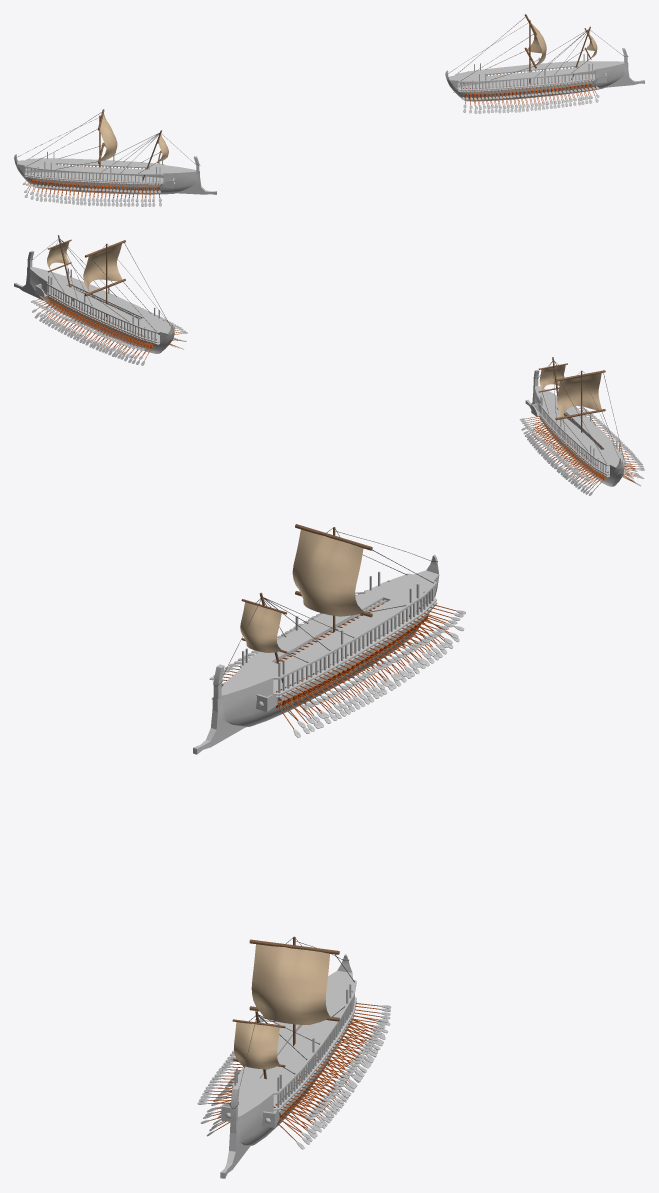
The model's file is Parte 2.fbx.
3 renders of one model, top to bottom at view 1: azimuth 30°, elevation 25°; view 2: azimuth 150°, elevation 25°; view 3: azimuth 270°, elevation 25°, orthographic. The views are drawn at different scales.
Parts seen in each view (by area): view 1: pSphere6_1, pSphere6, GrupoRemos, GrupoRemos_1, pCube78, pCube78_1, pPlane1_1, pCylinder60, pCylinder60_1, pPlane1; view 2: pSphere6, pSphere6_1, GrupoRemos_1, GrupoRemos, pPlane1_1, pPlane1, pCube78, pCube78_1, pCylinder60, pCylinder60_1, pPlane8_1; view 3: pSphere6_1, pSphere6, GrupoRemos_1, GrupoRemos, pPlane1, pPlane1_1, pCube78_1, pPlane8, pPlane8_1, pCube78.
Part boxes in pixels (left/top/right/bottom): pSphere6_1: left=14, top=154, right=216, bottom=194; pSphere6: left=445, top=48, right=644, bottom=101; GrupoRemos: left=453, top=67, right=599, bottom=113; GrupoRemos_1: left=22, top=164, right=161, bottom=206; pCube78: left=457, top=54, right=592, bottom=91; pCube78_1: left=27, top=151, right=162, bottom=183; pPlane1_1: left=99, top=113, right=117, bottom=160; pCylinder60: left=457, top=17, right=590, bottom=81; pCylinder60_1: left=26, top=112, right=159, bottom=173; pPlane1: left=527, top=23, right=546, bottom=65; pSphere6: left=14, top=251, right=174, bottom=353; pSphere6_1: left=525, top=370, right=625, bottom=486; GrupoRemos_1: left=519, top=407, right=644, bottom=495; GrupoRemos: left=30, top=286, right=187, bottom=365; pPlane1_1: left=557, top=373, right=601, bottom=416; pPlane1: left=83, top=243, right=122, bottom=292; pCube78: left=48, top=268, right=159, bottom=342; pCube78_1: left=540, top=396, right=624, bottom=473; pCylinder60: left=50, top=238, right=170, bottom=331; pCylinder60_1: left=542, top=360, right=624, bottom=463; pPlane8_1: left=539, top=365, right=565, bottom=390; pSphere6_1: left=193, top=554, right=439, bottom=754; pSphere6: left=220, top=954, right=356, bottom=1178; GrupoRemos_1: left=209, top=590, right=465, bottom=737; GrupoRemos: left=197, top=1003, right=391, bottom=1149; pPlane1: left=251, top=944, right=329, bottom=1024; pPlane1_1: left=292, top=529, right=363, bottom=616; pCube78_1: left=242, top=571, right=433, bottom=696; pPlane8: left=234, top=1022, right=279, bottom=1069; pPlane8_1: left=240, top=602, right=281, bottom=652; pCube78: left=234, top=984, right=354, bottom=1110.
Bounding box in the file's own units: 47122 × 6141 × 9561.
